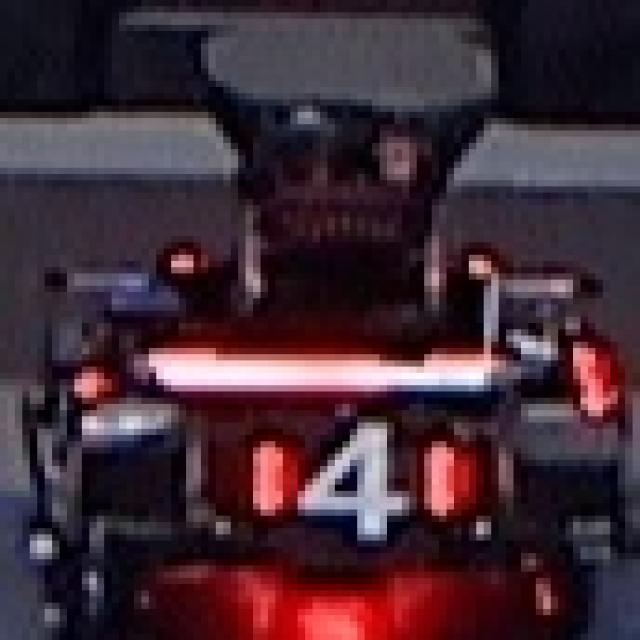R4: (227, 404, 487, 553)
